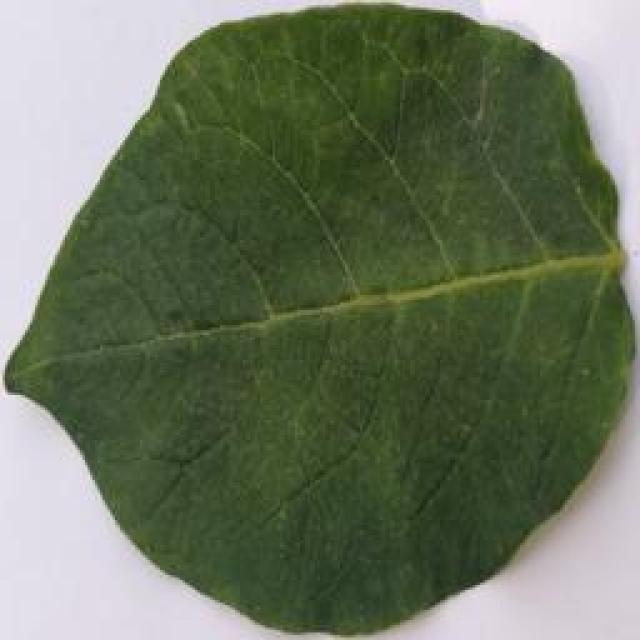Potato_Healthy: (4, 9, 632, 632)
